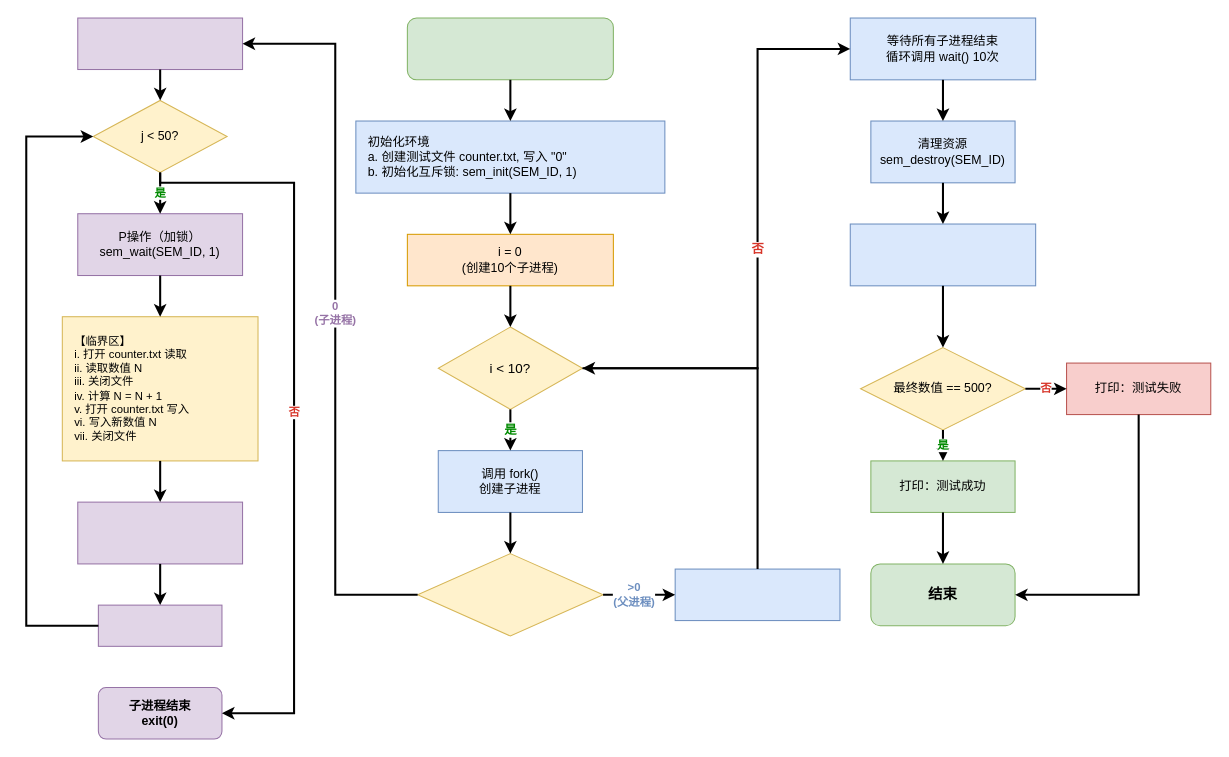
The diagram is 1229 pixels wide and 757 high, and some of its shapes have lost their labels. Here are the shapes that lost their labels. From the top down, the centre of each, then its label:
At [160,43]: "j = 0 (执行50次计数)".
At [509,48]: "开始 (main)".
At [942,254]: "验证结果 打开 counter.txt 读取最终数值".
At [160,532]: "V操作（解锁） sem_signal(SEM_ID, 1)".
At [510,594]: "fork() 返回值?".
At [757,594]: "i++ (继续创建下一个子进程)".
At [159,625]: "j++".
